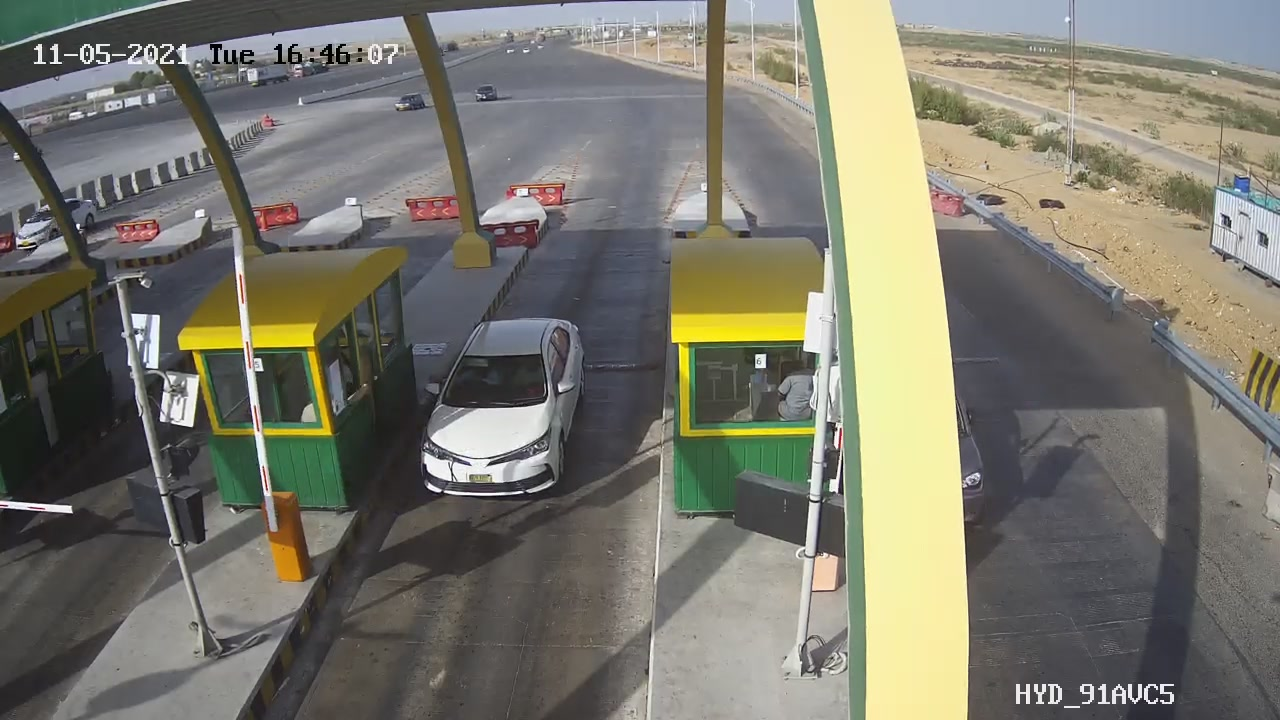F1: (398, 303, 614, 528)
